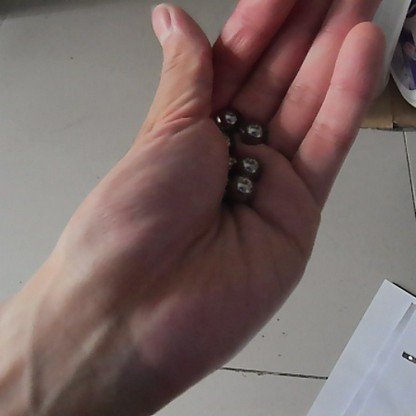ironball: (211, 104, 243, 132), (228, 176, 256, 205), (240, 119, 264, 144), (238, 155, 263, 177), (223, 150, 237, 168), (224, 133, 233, 149)
